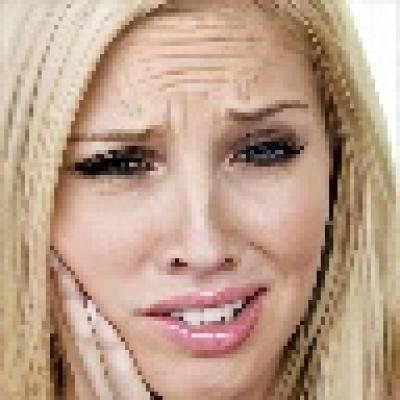sad: (30, 7, 327, 391)
